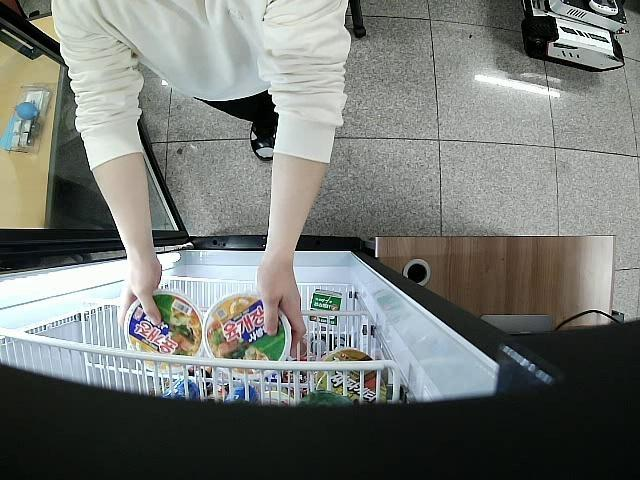09_yukGaeJang: (204, 291, 292, 380), (124, 288, 203, 374)
